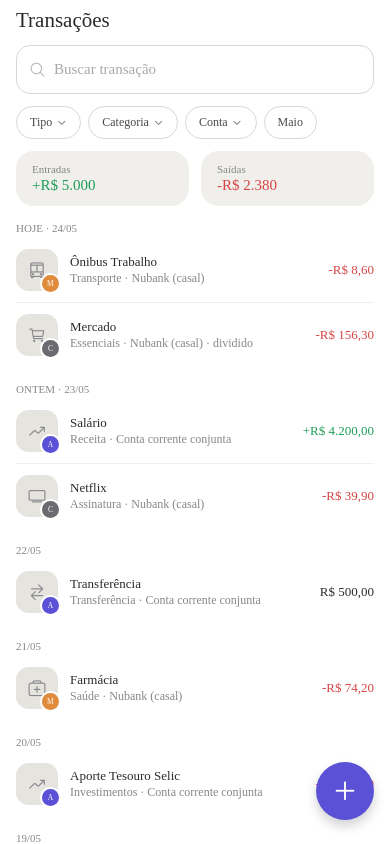
Test: Transações › o chip de tipo passa a mostrar o filtro escolhido
Step 1. Click the text "Tipo" → (41, 122), box [30,115,52,130]
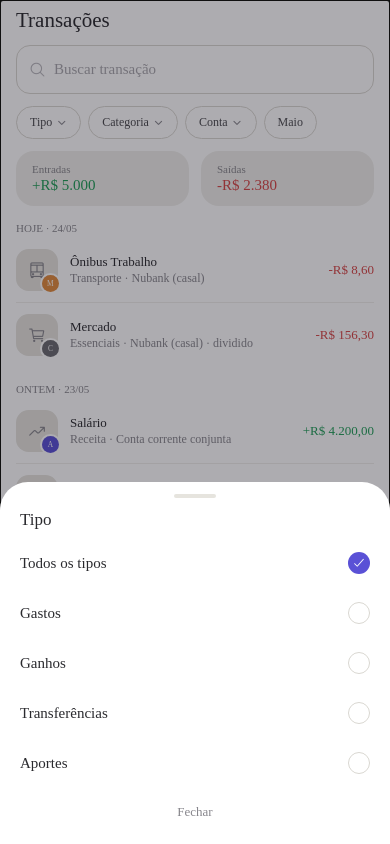
Step 2. Click the text "Aportes" → (44, 762), box [20,754,68,770]
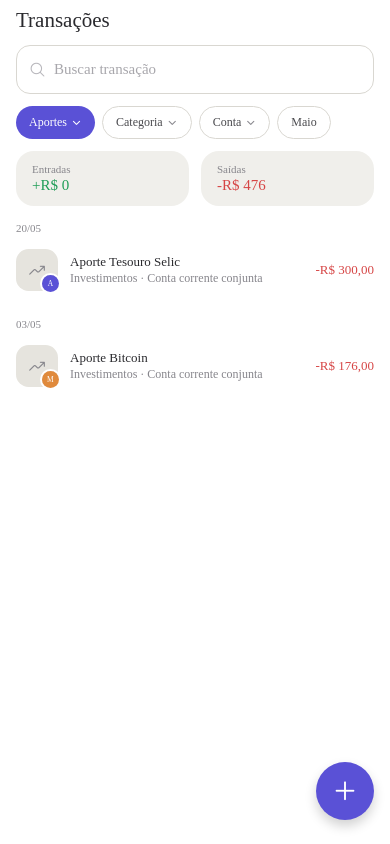
Expected: the text "Aportes" is shown, [29,115,67,130]
